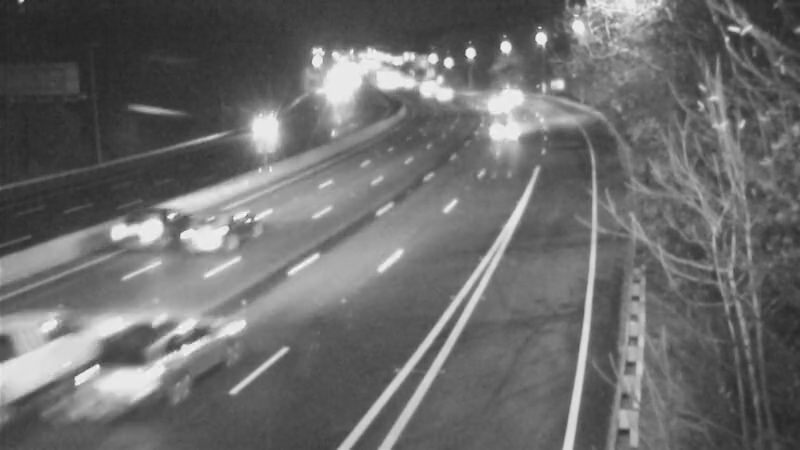vehicle: (70, 325, 180, 435), (1, 304, 100, 414), (162, 194, 242, 274), (96, 186, 176, 266), (480, 108, 530, 158), (241, 108, 291, 158)
